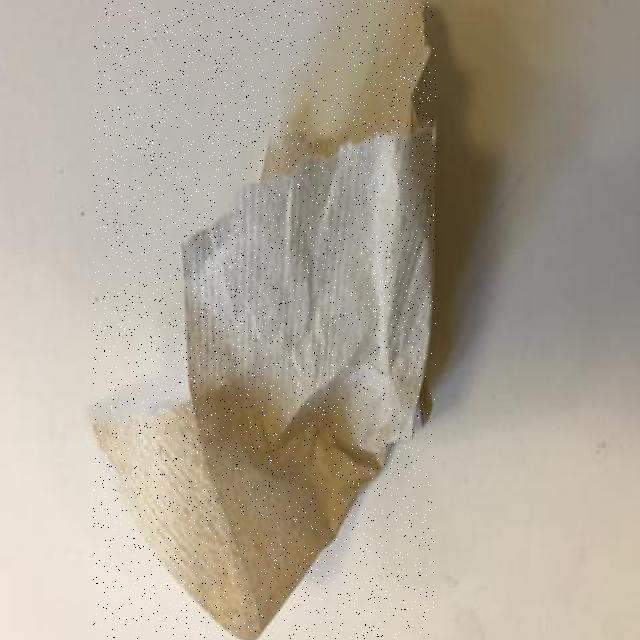paper: (94, 1, 436, 638)
